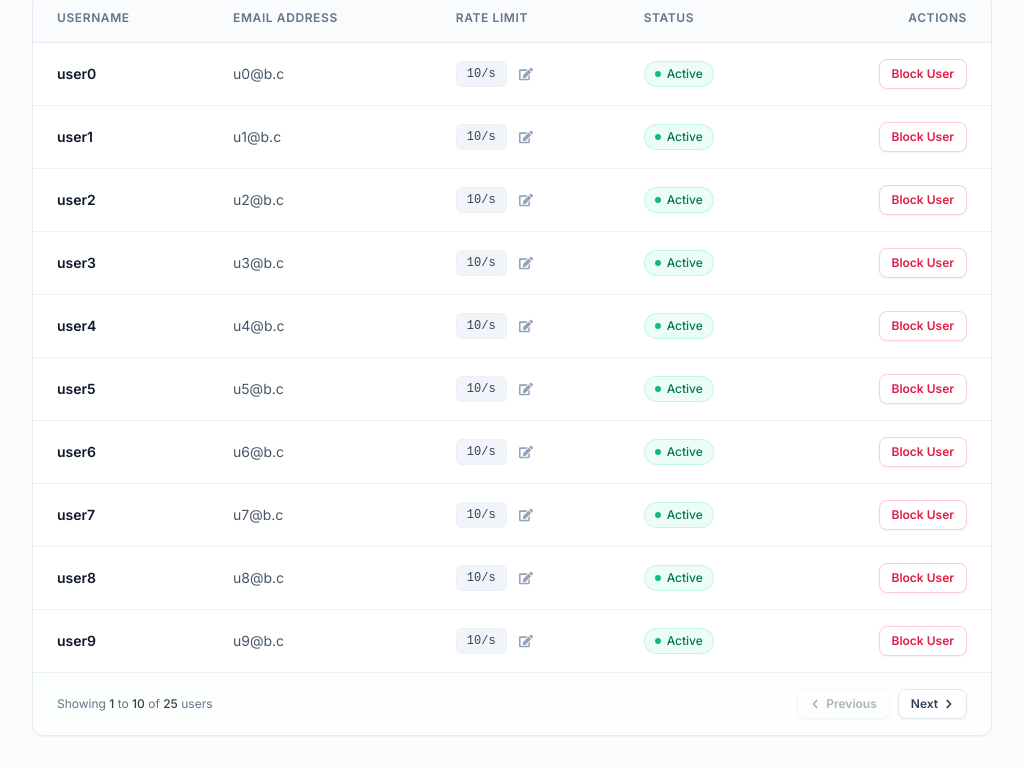
Test: app/(protected)/admin/page › paginates the user list
(page scrolled)
Expected: the text "user0" is shown, [57,64,96,84]
Click the button "Next": (932, 704) [898,689,967,719]
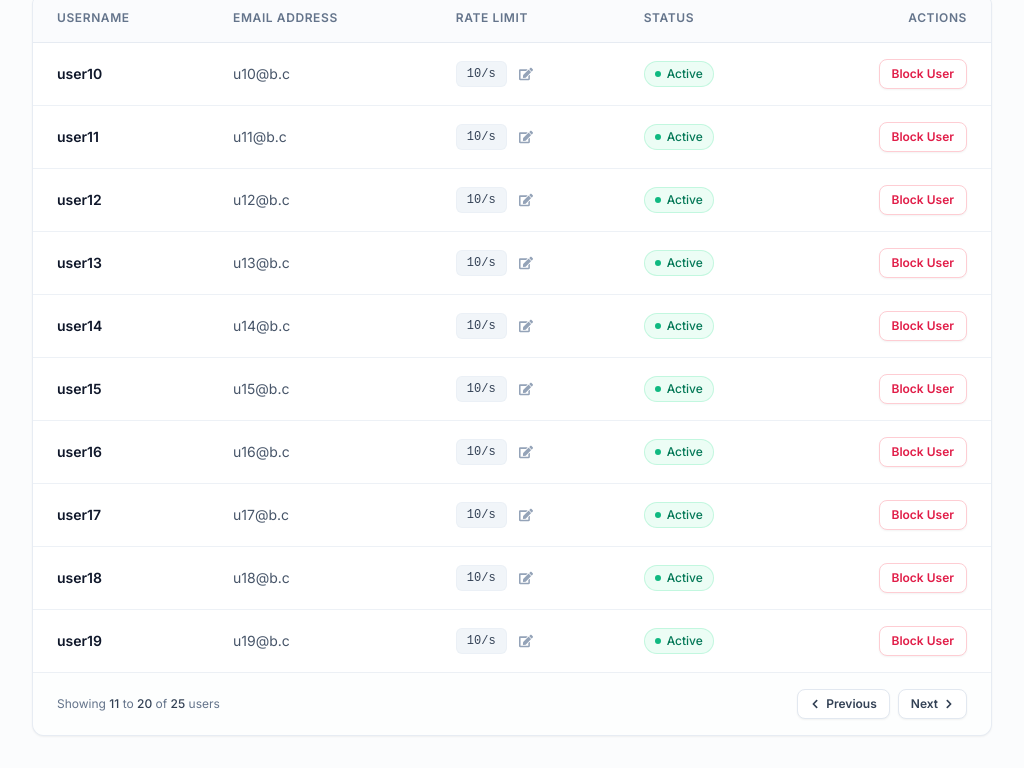
Expected: the text "user10" is shown, [57,64,102,84]
Click the button "Previous": (843, 704) [797,689,890,719]
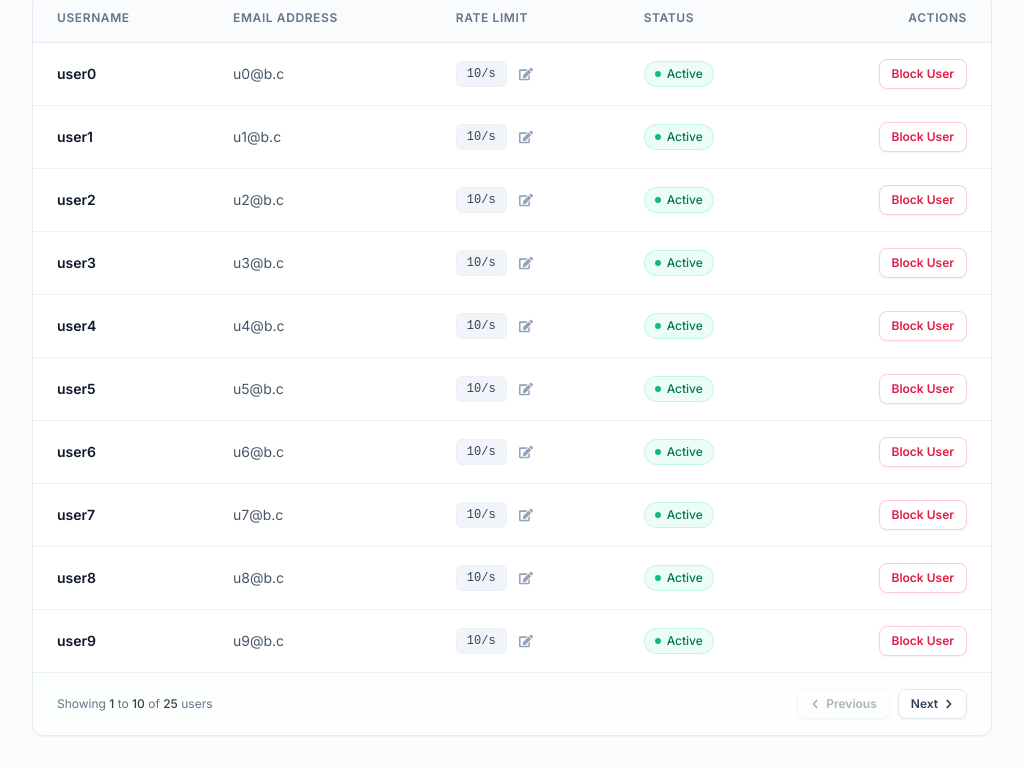
Expected: the text "user0" is shown, [57,64,96,84]
